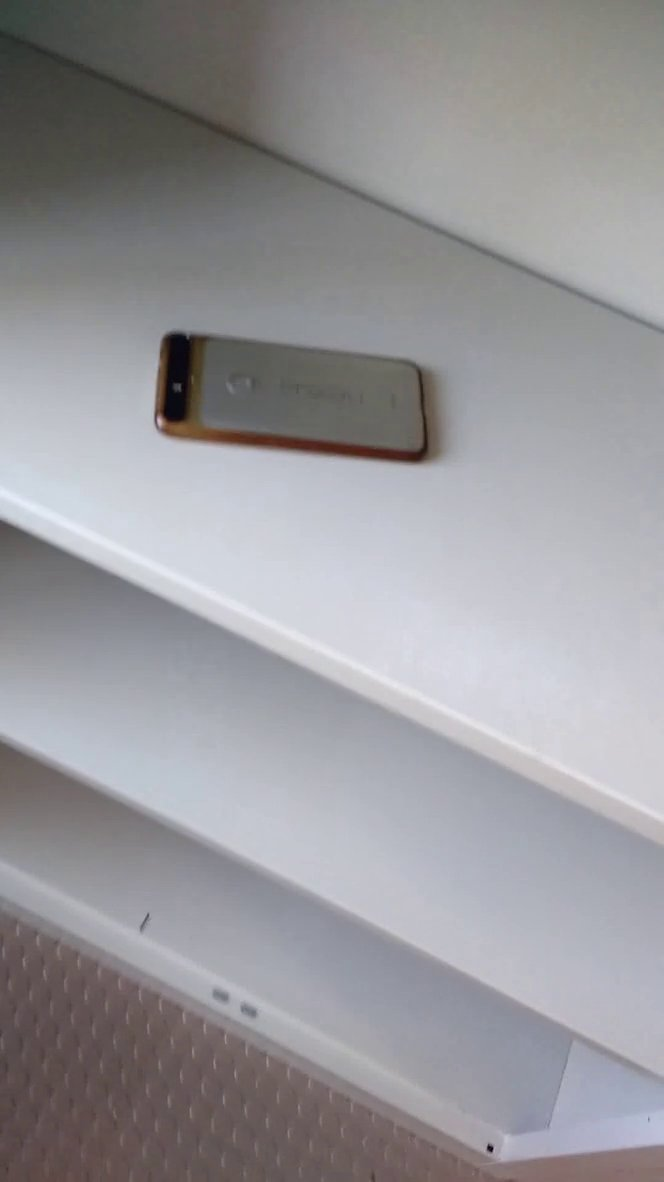phone: (131, 316, 455, 491)
